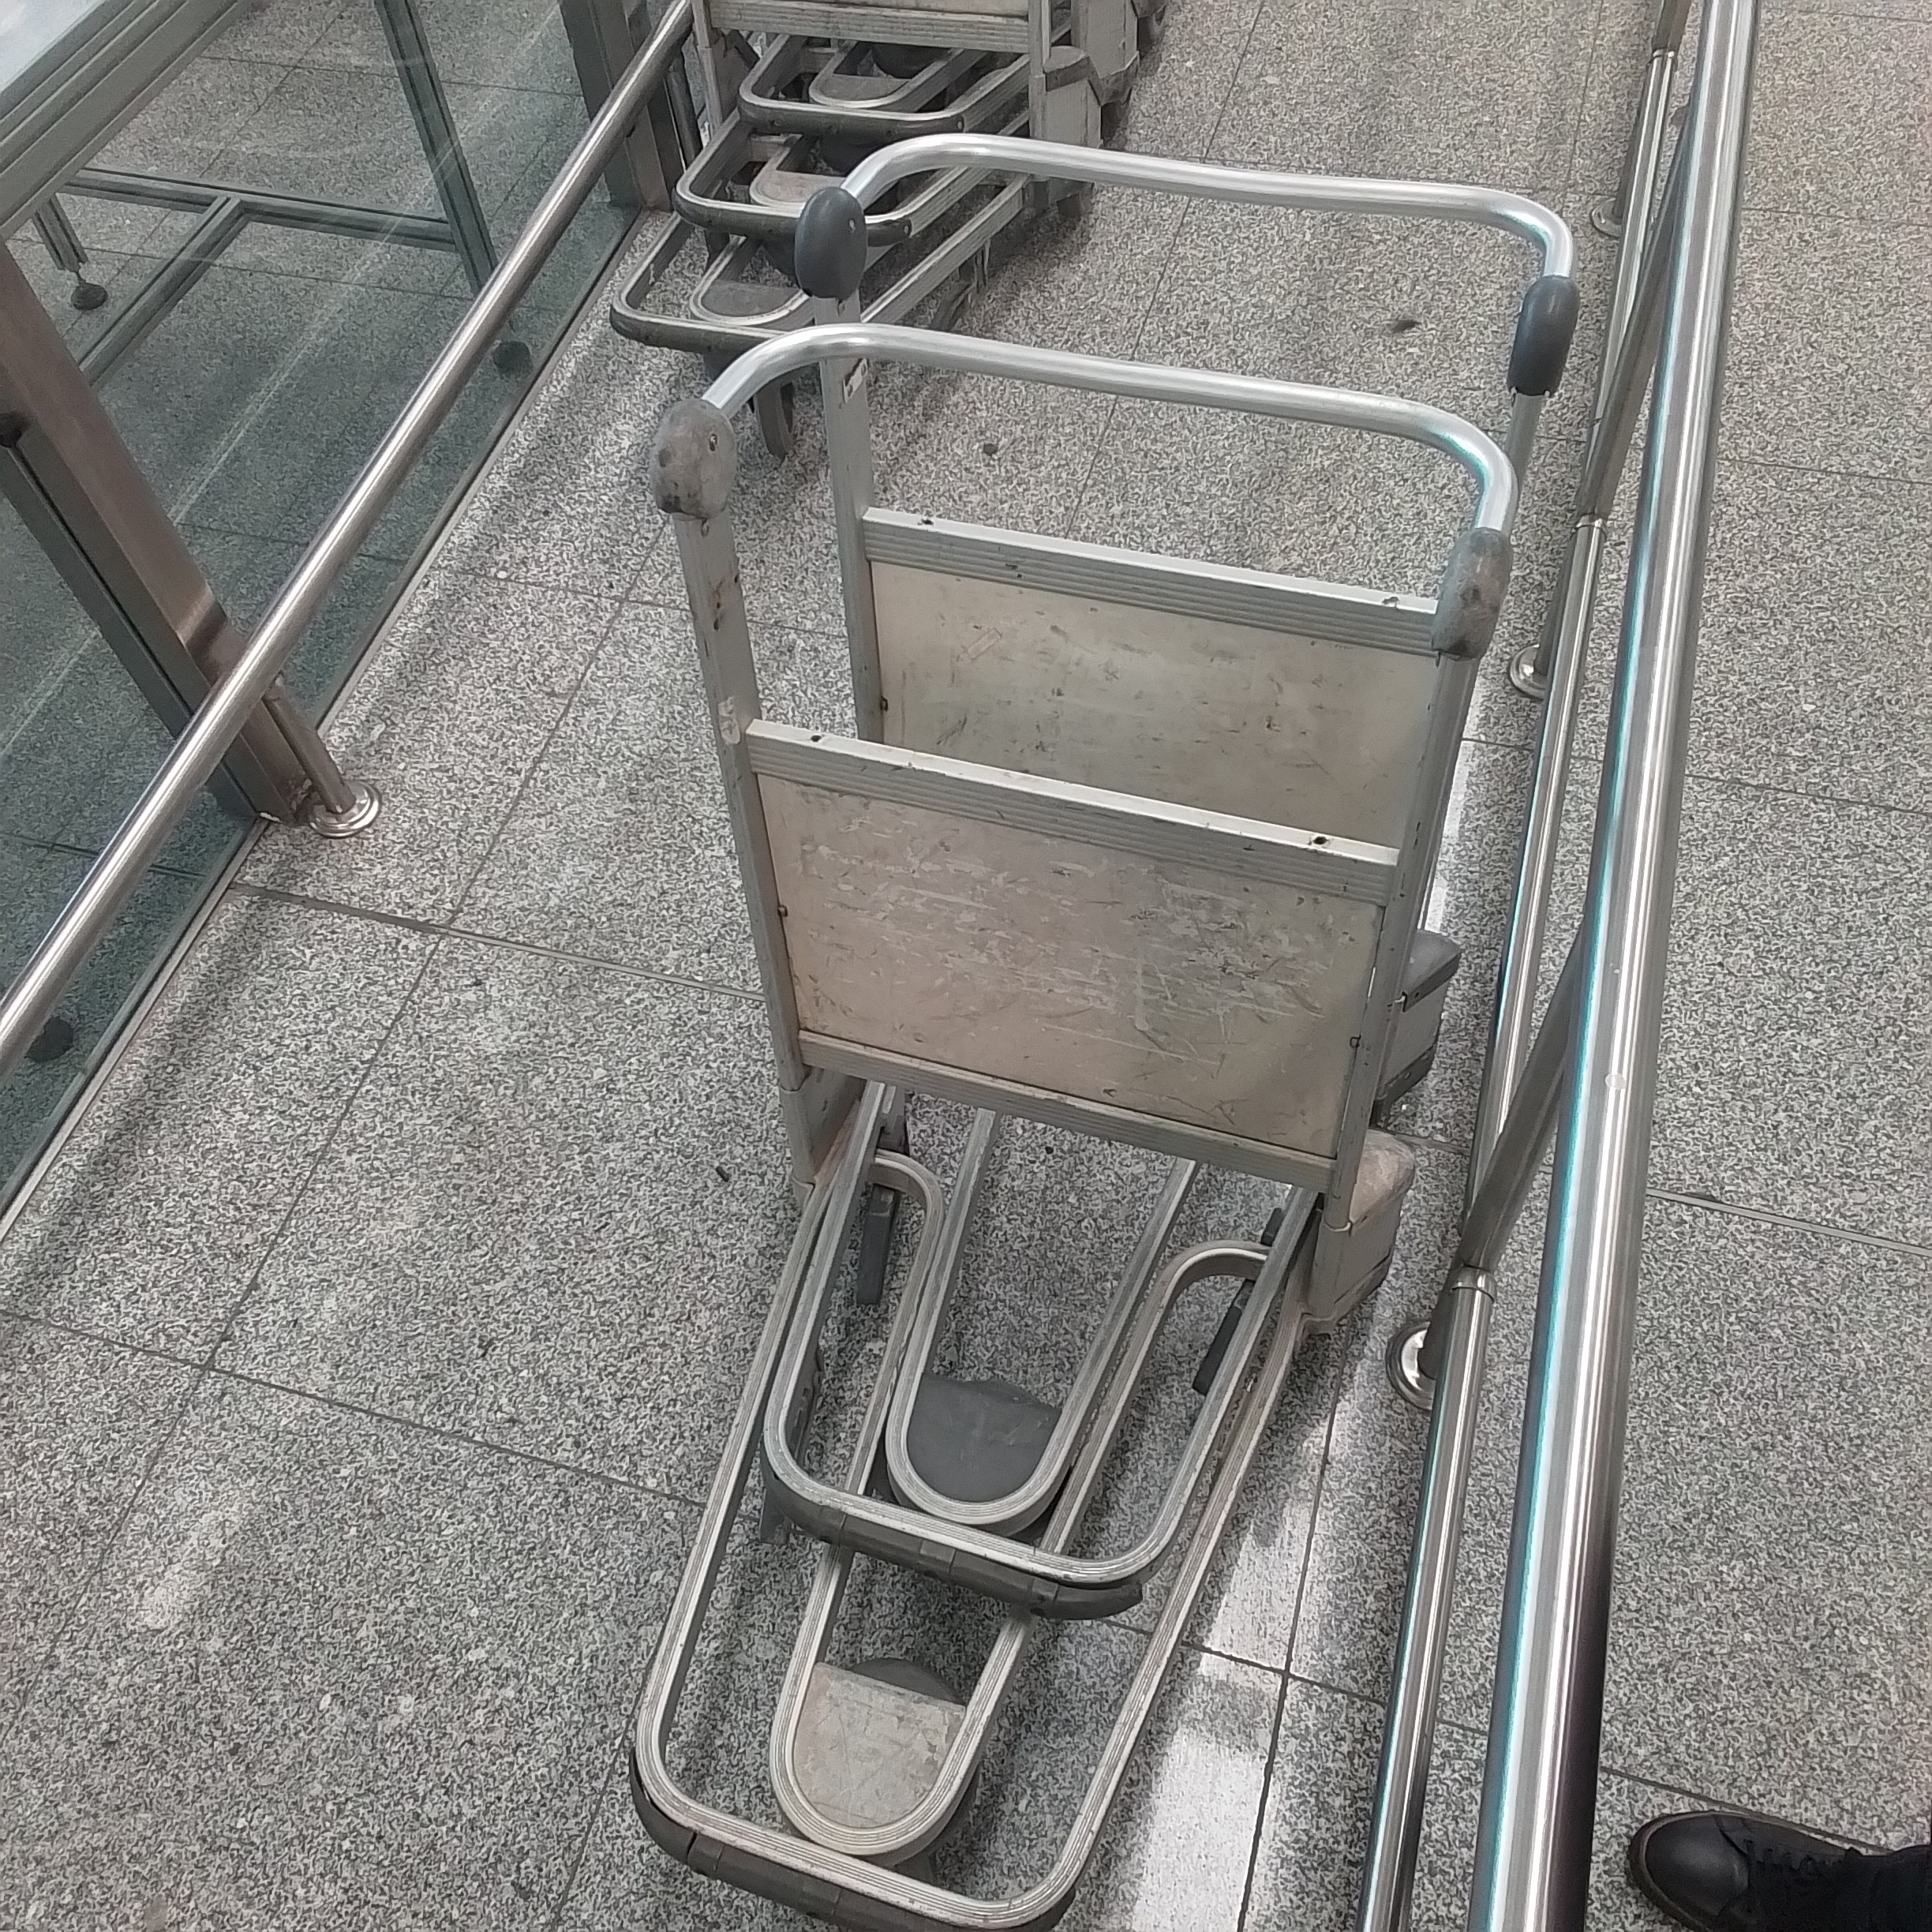airport-trolley: (591, 322, 1506, 1918), (780, 143, 1589, 929)
